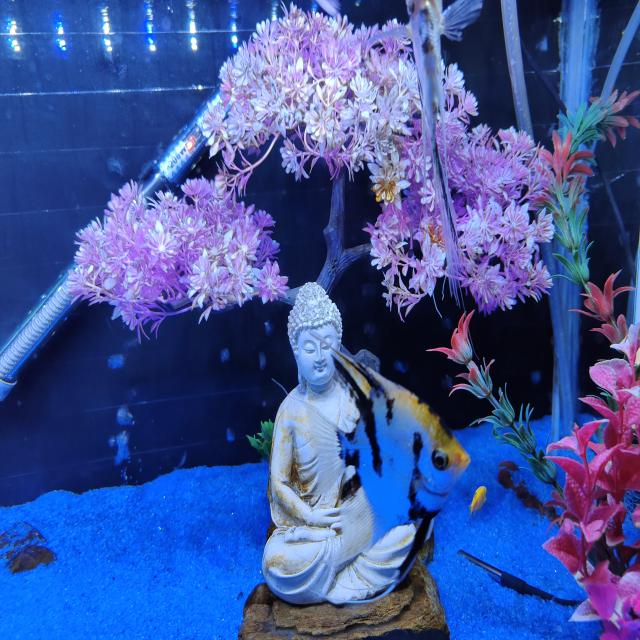Fish: (309, 350, 469, 598), (370, 0, 482, 303), (469, 486, 486, 517), (316, 0, 340, 16)
